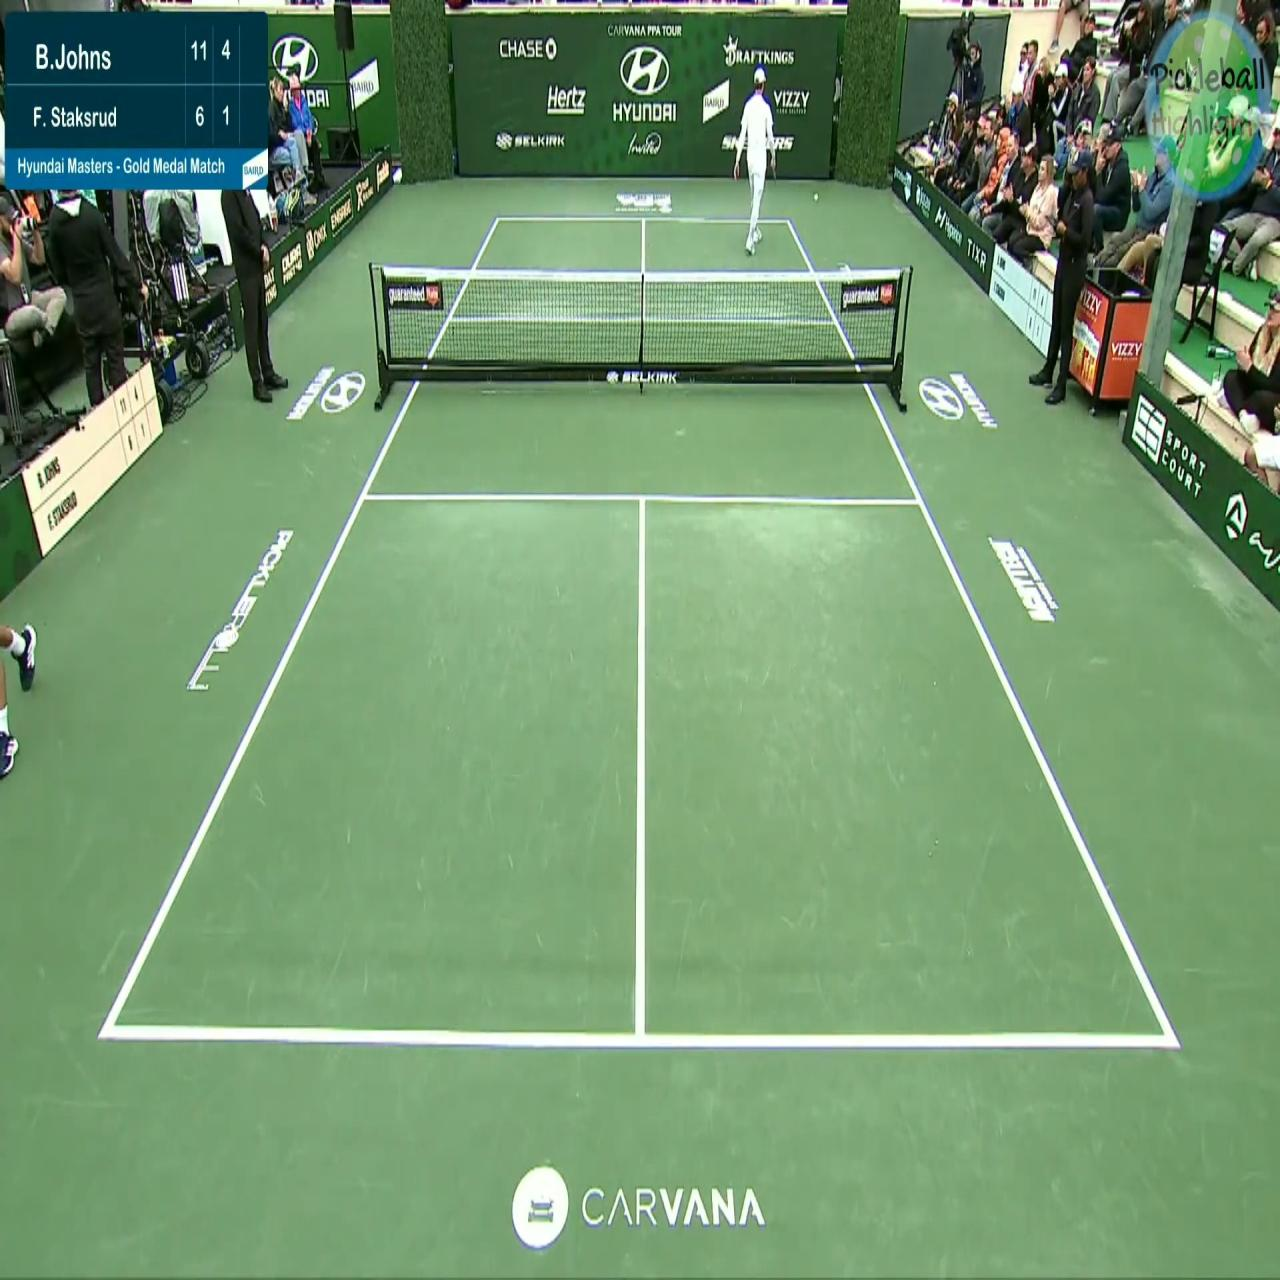pickleball: (812, 192, 819, 202)
